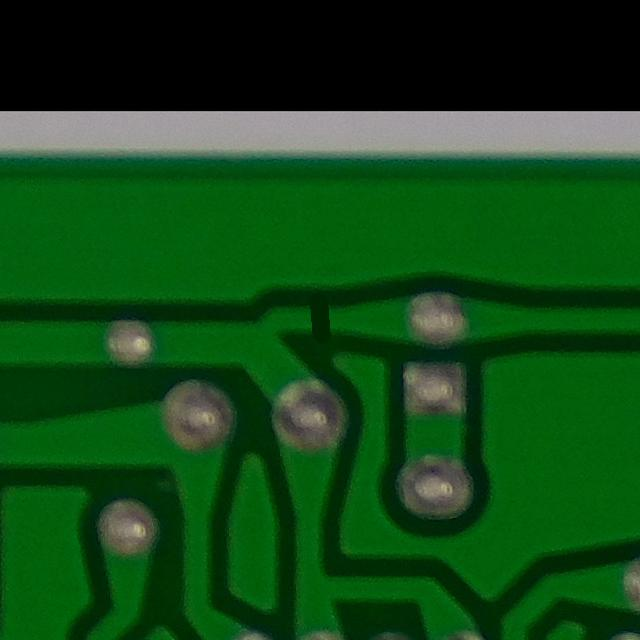open_circuit: (291, 291, 349, 348)
